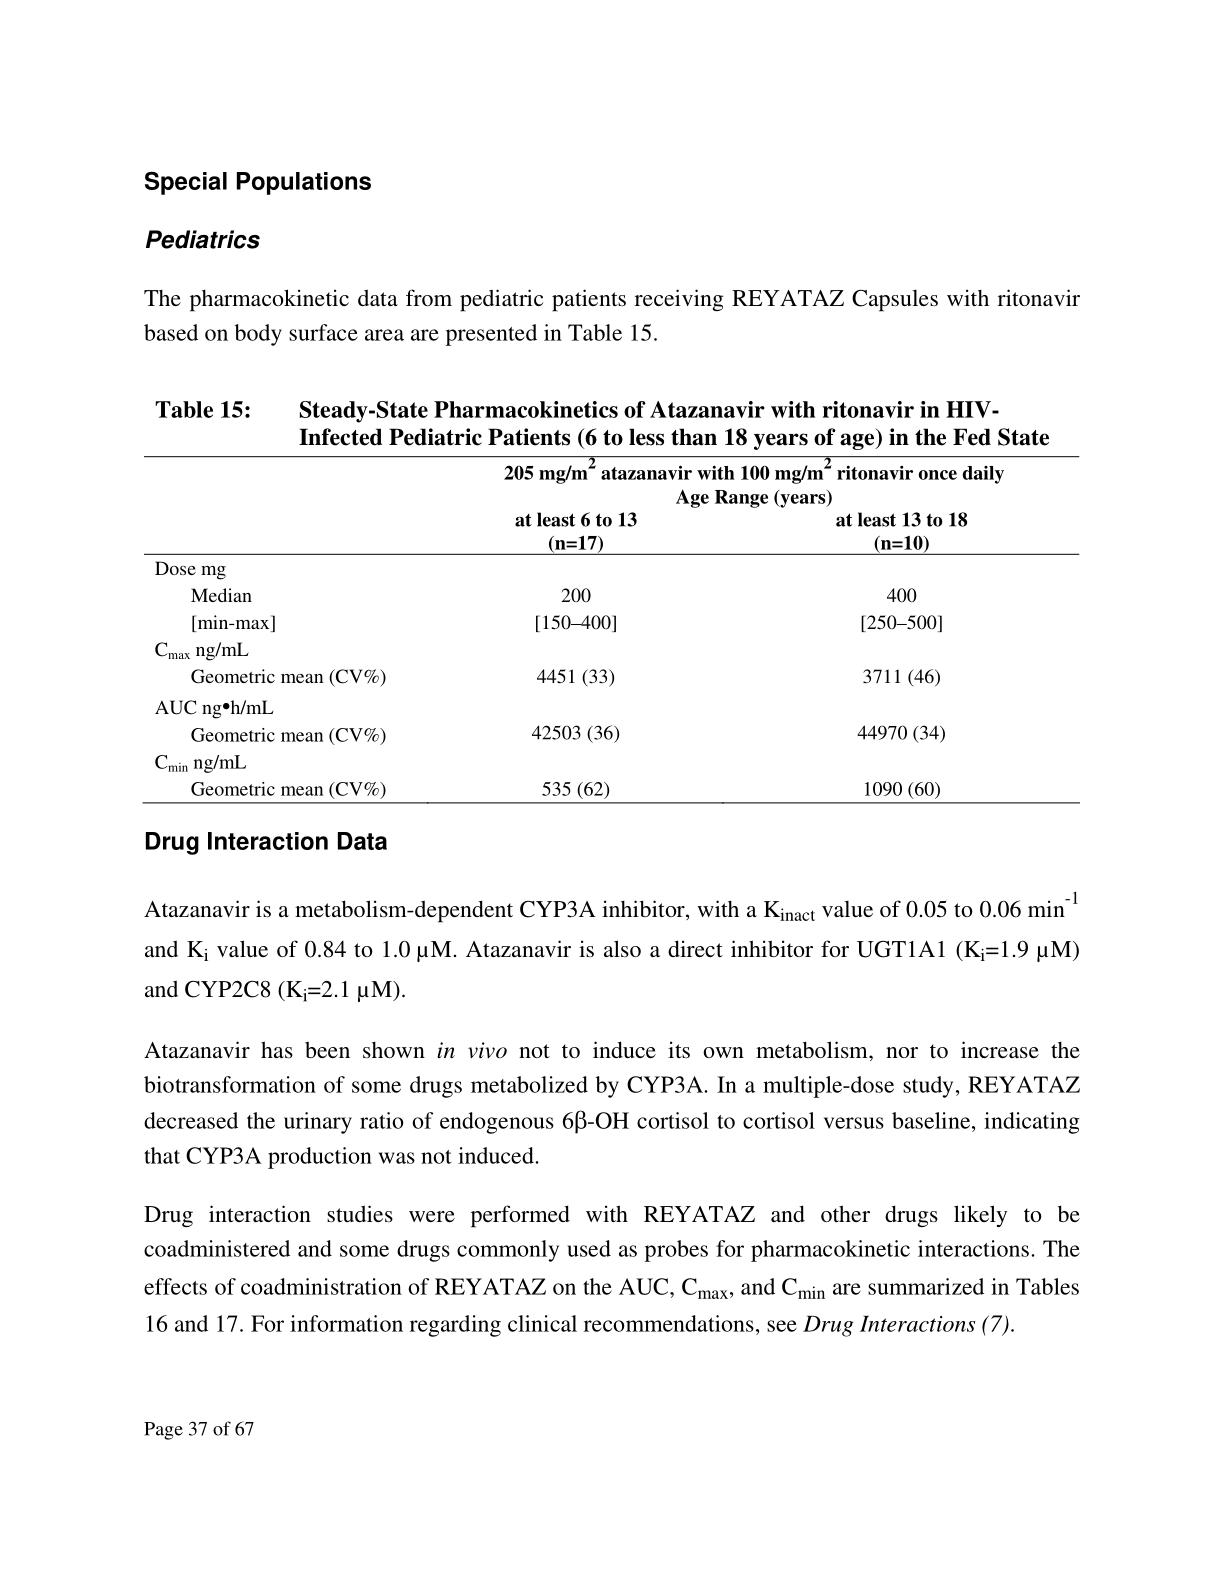partial_lined_merged_cells: (144, 454, 1083, 806)
